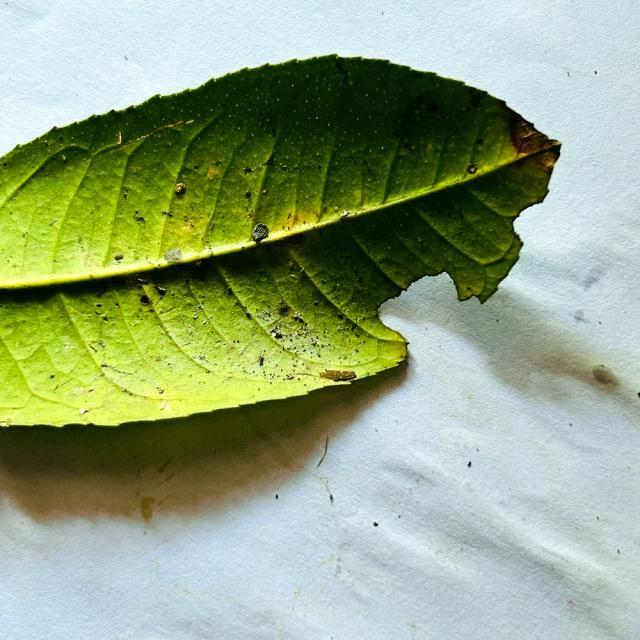Deficiency Leaf: (379, 275, 483, 346), (513, 200, 559, 246)
Lemon: (0, 56, 560, 426)
